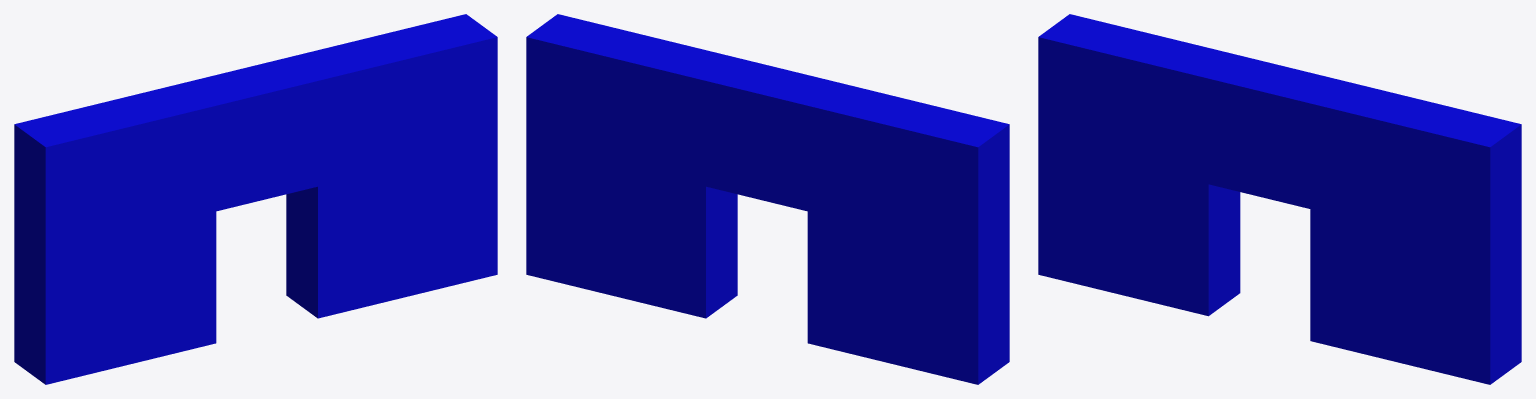
The model's file is blue square wall.fbx.
The picture shows the model from 3 angles, left to right: view 1: azimuth 30°, elevation 25°; view 2: azimuth 150°, elevation 25°; view 3: azimuth 330°, elevation 25°; orthographic projection.
Visible parts, largest first — view 1: pCube1; view 2: pCube1; view 3: pCube1.
Boxes of the visible parts, x1=… form: pCube1: x1=14, y1=14, x2=497, y2=384; pCube1: x1=526, y1=14, x2=1009, y2=384; pCube1: x1=1038, y1=14, x2=1521, y2=384.
Bounding box in the file's own units: 1.99 × 1 × 0.2405.
